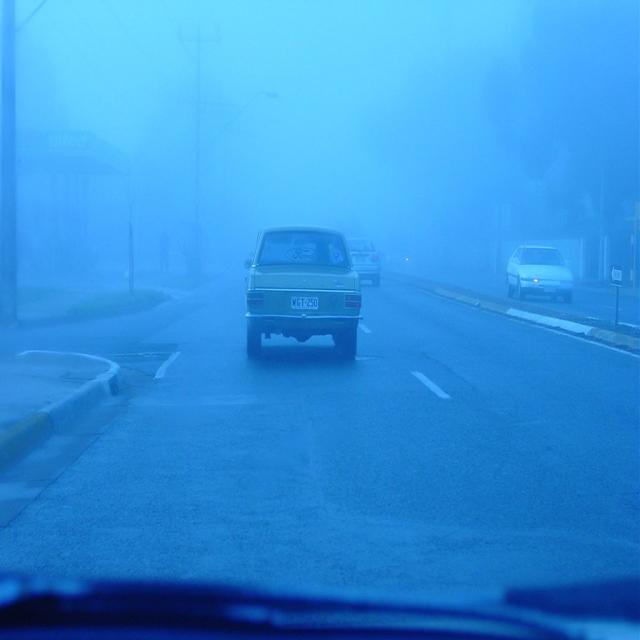car: (244, 227, 359, 357), (509, 243, 571, 301)
